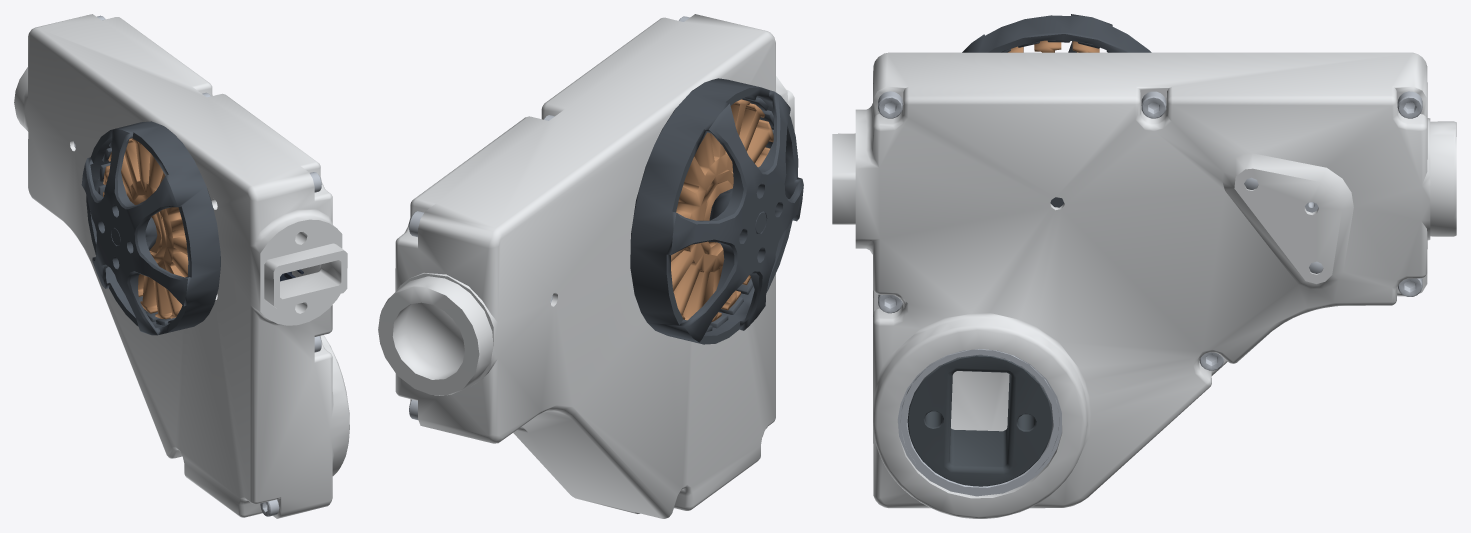
Rendered from right_hip_fe_LOD0.fbx.
The picture shows the model from 3 angles, left to right: view 1: azimuth 30°, elevation 25°; view 2: azimuth 150°, elevation 25°; view 3: azimuth 270°, elevation 25°; orthographic projection. The views are drawn at different scales.
Parts seen in each view (by area): view 1: MM_bolt_hip_fe_structure_right_side_bl_biped_16c6002937, MM_bolt_motor_antigravity_4004_rotor_e661103963, MM_bolt_motor_antigravity_4004_stator_8997bf014c; view 2: MM_bolt_hip_fe_structure_right_side_bl_biped_16c6002937, MM_bolt_motor_antigravity_4004_rotor_e661103963, MM_bolt_motor_antigravity_4004_stator_8997bf014c; view 3: MM_bolt_hip_fe_structure_right_side_bl_biped_16c6002937, MM_bolt_transmission_pulley_at3_t30_output_78321aecd0, MM_bolt_motor_antigravity_4004_rotor_e661103963, MM_bolt_bearing_32_25_4_sbn_61705rs_2cc0286b5b.
Part boxes in pixels (box(x1,y1,x2,y2)): MM_bolt_hip_fe_structure_right_side_bl_biped_16c6002937: box(14, 14, 349, 518); MM_bolt_motor_antigravity_4004_rotor_e661103963: box(81, 121, 220, 335); MM_bolt_motor_antigravity_4004_stator_8997bf014c: box(103, 138, 188, 319); MM_bolt_hip_fe_structure_right_side_bl_biped_16c6002937: box(378, 14, 794, 518); MM_bolt_motor_antigravity_4004_rotor_e661103963: box(630, 78, 803, 344); MM_bolt_motor_antigravity_4004_stator_8997bf014c: box(671, 99, 773, 322); MM_bolt_hip_fe_structure_right_side_bl_biped_16c6002937: box(832, 52, 1456, 518); MM_bolt_transmission_pulley_at3_t30_output_78321aecd0: box(907, 355, 1052, 486); MM_bolt_motor_antigravity_4004_rotor_e661103963: box(962, 14, 1151, 52); MM_bolt_bearing_32_25_4_sbn_61705rs_2cc0286b5b: box(898, 349, 1061, 496).
Size of the model in its own units: 0.0389 by 0.0808 by 0.1078.
